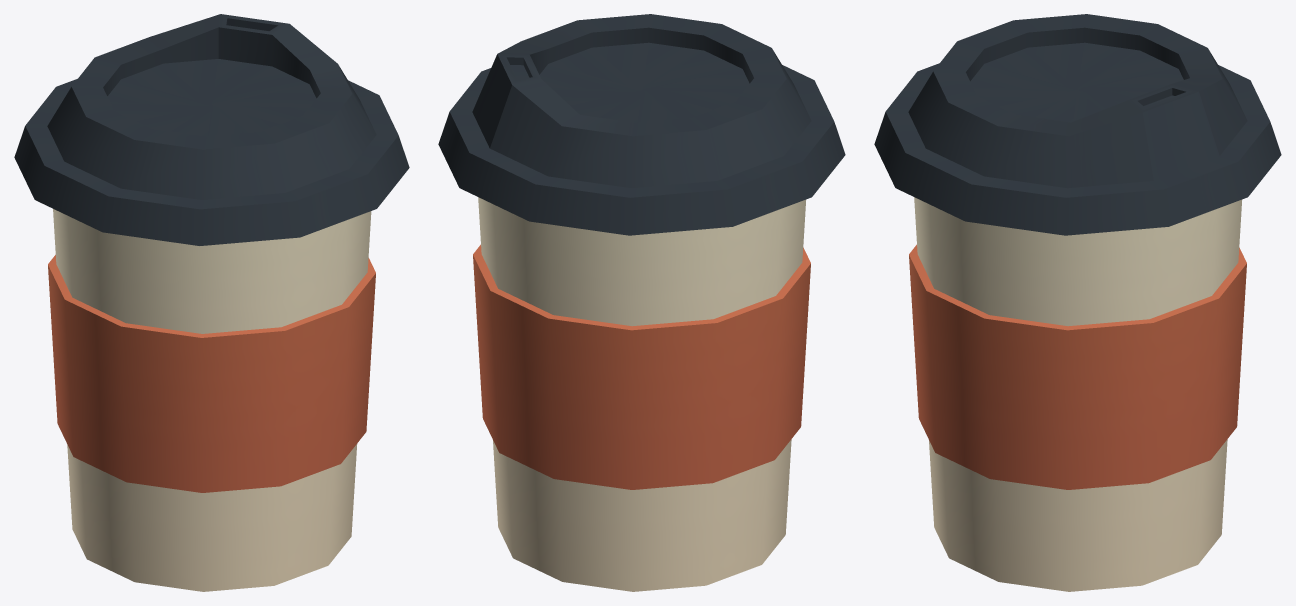
File: Coffee.fbx
3 renders of one model, left to right at view 1: azimuth 30°, elevation 25°; view 2: azimuth 150°, elevation 25°; view 3: azimuth 270°, elevation 25°, orthographic. The views are drawn at different scales.
Parts seen in each view (by area): view 1: Coffee; view 2: Coffee; view 3: Coffee.
Part boxes in pixels (x1=…): Coffee: x1=14, y1=14, x2=409, y2=591; Coffee: x1=438, y1=14, x2=845, y2=591; Coffee: x1=874, y1=14, x2=1281, y2=591.
Size of the model in its own units: 0.173 by 0.173 by 0.222.
